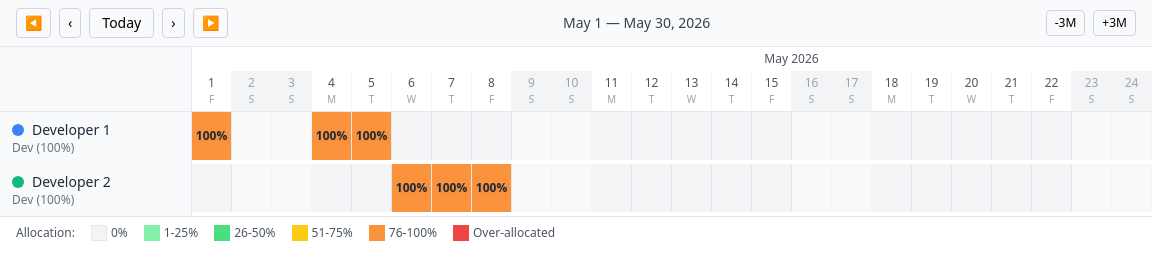
Test: ResourceHeatmap › shows task tooltip on hover when tasks are assigned
Hover should show tooltip with task name
Hover over the 1st element with class "cursor-pointer".
mouse_move(212, 136)  # box left=192, top=112, right=232, bottom=160
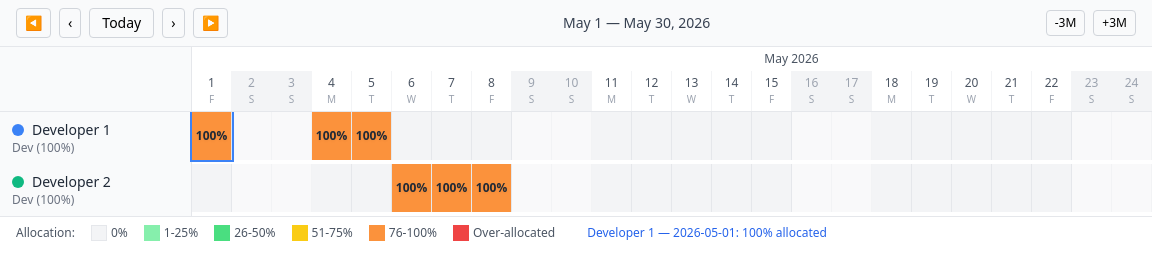
Result: the element with class "bottom-0" shows "Developer 1" at left=587, top=224, right=655, bottom=241
Result: the element with class "bottom-0" shows "2026-05-01" at left=673, top=224, right=736, bottom=241
